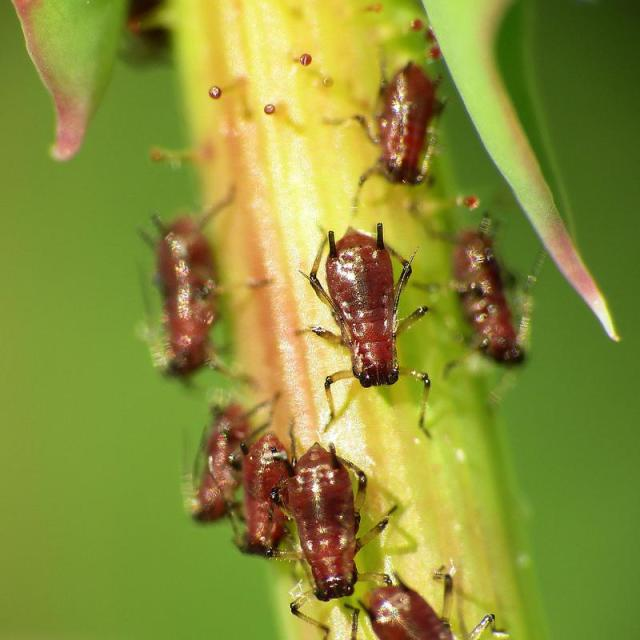Aphids: (277, 209, 450, 445), (264, 446, 377, 638), (351, 50, 455, 203)
